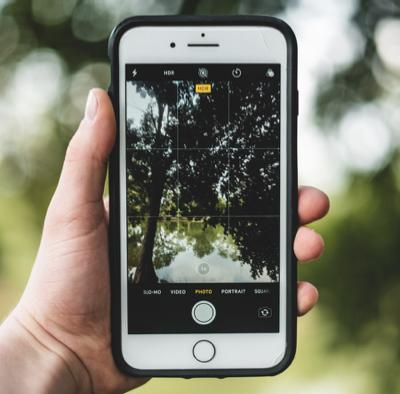Mobile Phone: (106, 13, 298, 378)
